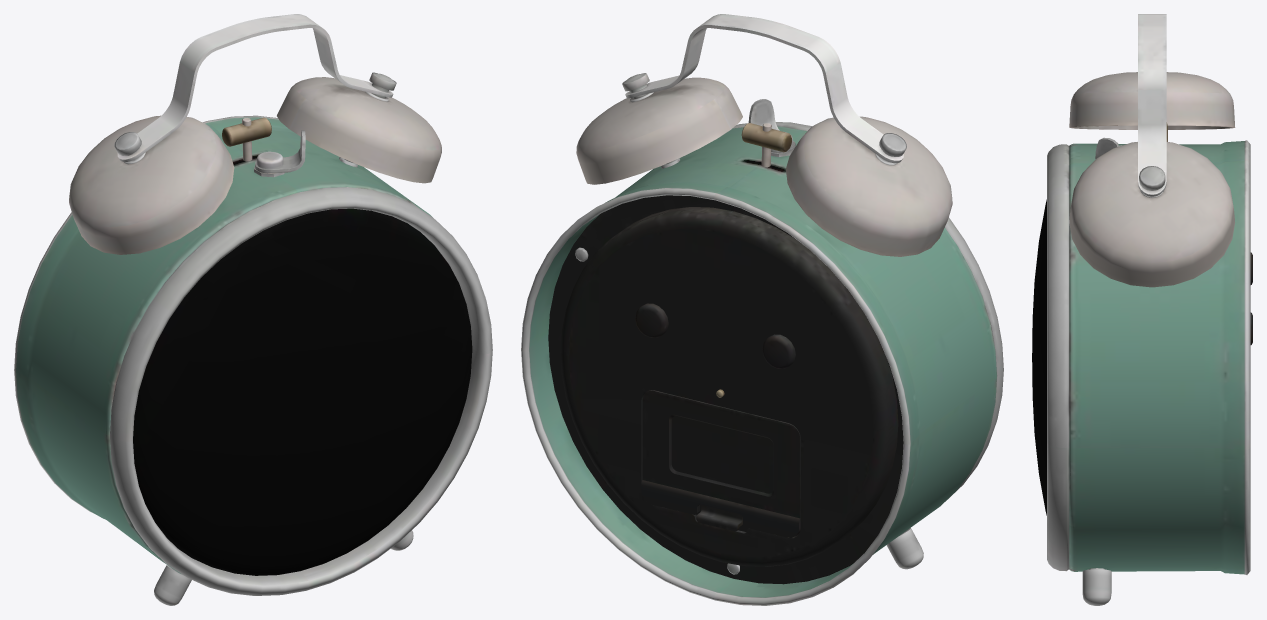
Rendered from alarm_clock_01.glb.
The picture shows the model from 3 angles, left to right: view 1: azimuth 30°, elevation 25°; view 2: azimuth 150°, elevation 25°; view 3: azimuth 270°, elevation 25°; orthographic projection. The views are drawn at different scales.
Visible parts, largest first — view 1: alarm_clock_01; view 2: alarm_clock_01; view 3: alarm_clock_01.
Part boxes in pixels (x1,y1,x2,y2): alarm_clock_01: (14,14,492,605); alarm_clock_01: (521,14,1003,605); alarm_clock_01: (1032,14,1252,605).
Size of the model in its own units: 0.1317 by 0.1742 by 0.0667.
2 materials, 2 textured.
